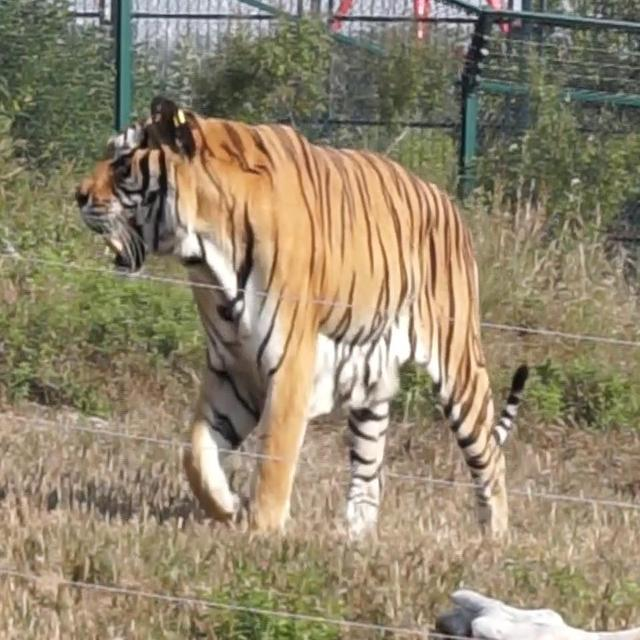tiger: (62, 86, 550, 574)
